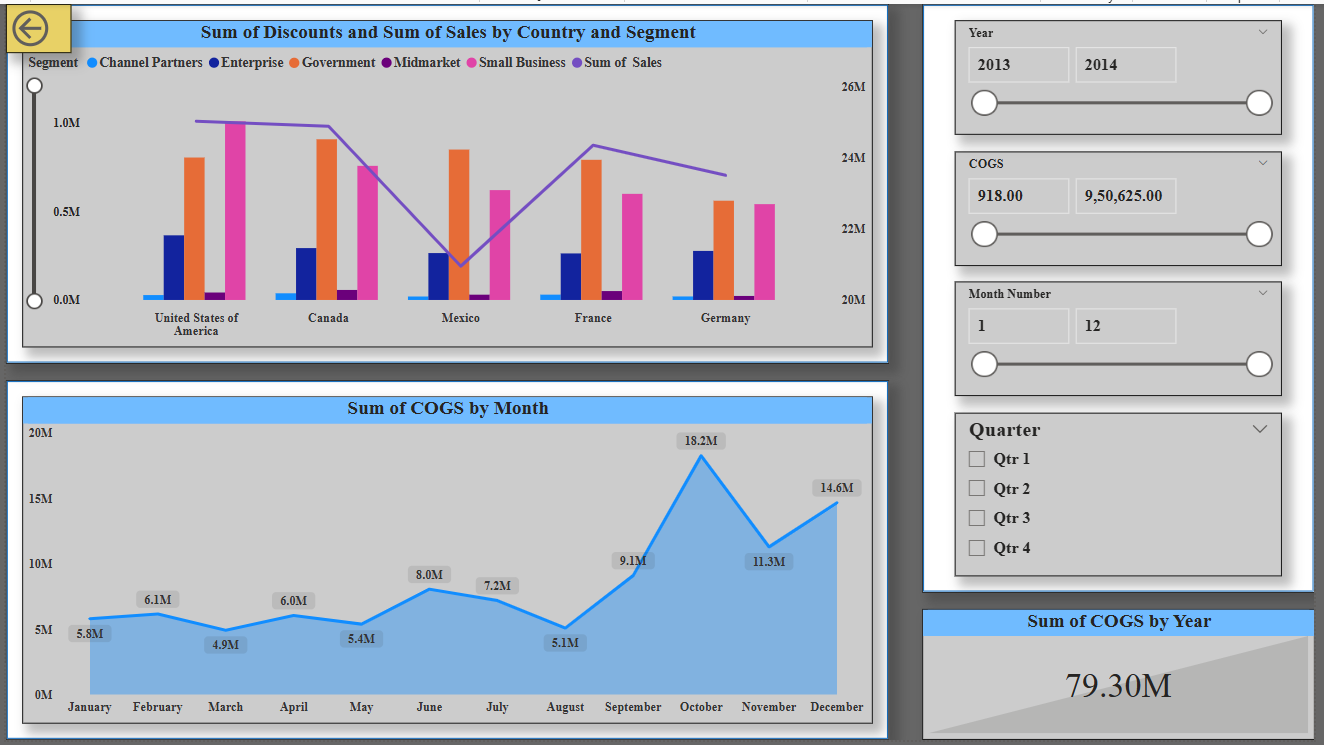

The page's visual inventory and layout, read from the dashboard file:
{"tool":"powerbi","page":{"name":"Expenses and Discount View","canvas":[1280,720],"ordinal":3},"visuals":[{"type":"shape","box":[0,368,864,352],"z":0},{"type":"shape","box":[0,0,864,352],"z":1000},{"type":"shape","box":[896,0,384,576],"z":2000},{"type":"kpi","fields":{"Indicator":["Sum(financials.COGS)"],"TrendLine":["financials.Year"]},"box":[896,592,384,128],"z":3000},{"type":"areaChart","fields":{"Y":["Sum(financials.COGS)"],"Category":["financials.Date.Variation.Date Hierarchy.Year","financials.Date.Variation.Date Hierarchy.Quarter","financials.Date.Variation.Date Hierarchy.Month","financials.Date.Variation.Date Hierarchy.Day"]},"box":[16,384,832,320],"z":4000},{"type":"lineClusteredColumnComboChart","fields":{"Category":["financials.Country"],"Y":["Sum(financials.Discounts)"],"Y2":["Sum(financials. Sales)"],"Series":["financials.Segment"]},"box":[16,16,832,320],"z":5000},{"type":"slicer","fields":{"Values":["financials.COGS"]},"box":[928,144,320,112],"z":6000},{"type":"slicer","fields":{"Values":["financials.Year"]},"box":[928,16,320,112],"z":7000},{"type":"slicer","fields":{"Values":["financials.Month Number"]},"box":[928,272,320,112],"z":8000},{"type":"slicer","fields":{"Values":["financials.Date.Variation.Date Hierarchy.Quarter"]},"box":[928,400,320,160],"z":9000},{"type":"actionButton","box":[0,0,64,48],"z":11000}]}

Visuals, with their boxes in screenshot pixels (x1, y1, x2, y2), scaled from the page's 1280x720 canvas onto the 1324x745 screenshot:
shape: [0,381,894,744]
shape: [0,0,894,364]
shape: [927,0,1323,596]
kpi - Sum(financials.COGS) x financials.Year: [927,613,1323,744]
areaChart - Sum(financials.COGS) x financials.Date.Variation.Date Hierarchy.Year: [17,397,877,728]
lineClusteredColumnComboChart - financials.Country x Sum(financials.Discounts): [17,17,877,348]
slicer - financials.COGS: [960,149,1291,265]
slicer - financials.Year: [960,17,1291,132]
slicer - financials.Month Number: [960,281,1291,397]
slicer - financials.Date.Variation.Date Hierarchy.Quarter: [960,414,1291,579]
actionButton: [0,0,66,50]
